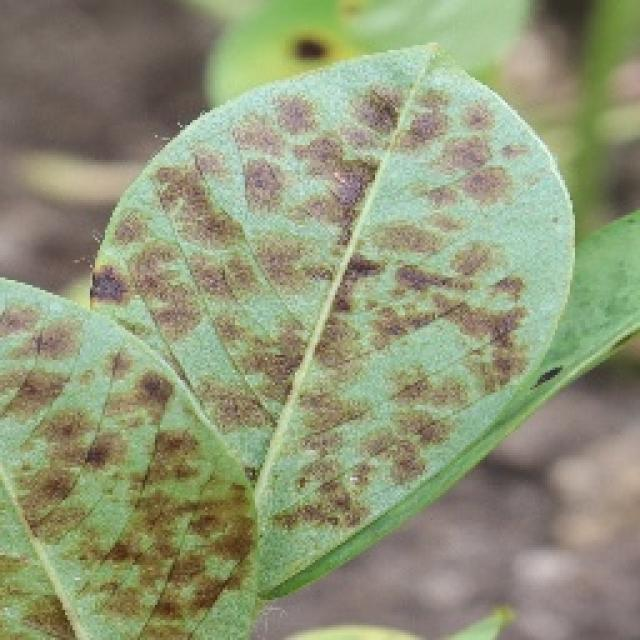Whitefly: (0, 61, 536, 640)
